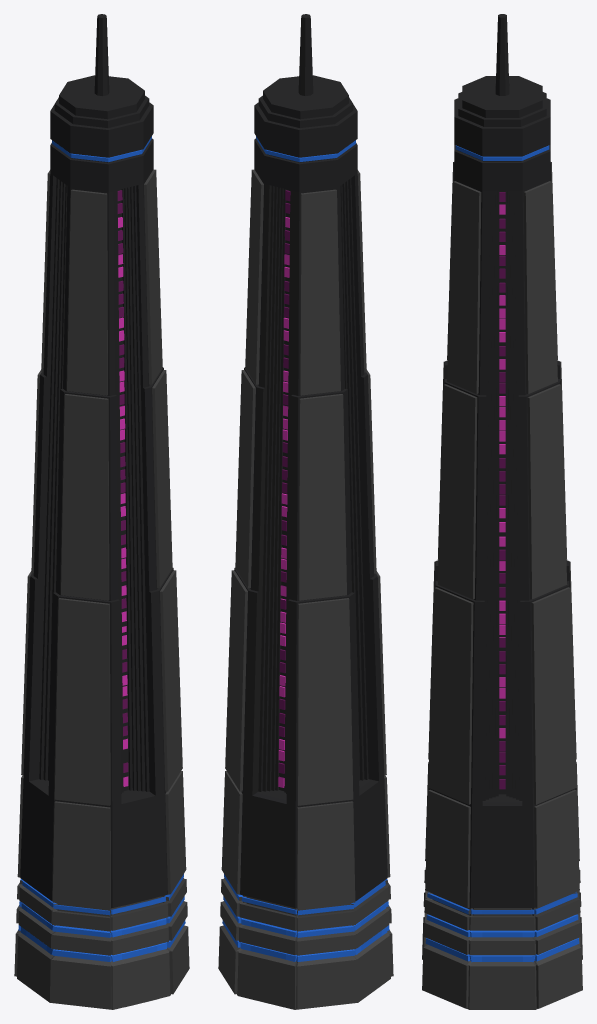
The model's file is Building5_New.fbx.
3 renders of one model, left to right at view 1: azimuth 30°, elevation 25°; view 2: azimuth 150°, elevation 25°; view 3: azimuth 270°, elevation 25°, orthographic.
Parts seen in each view (by area): view 1: Edificio1, VentanasEdificio1; view 2: Edificio1, VentanasEdificio1; view 3: Edificio1, VentanasEdificio1.
Part boxes in pixels (x1,y1,x2,y2): Edificio1: [14, 14, 189, 1009]; VentanasEdificio1: [117, 190, 128, 786]; Edificio1: [218, 14, 393, 1009]; VentanasEdificio1: [278, 190, 290, 787]; Edificio1: [422, 14, 582, 1009]; VentanasEdificio1: [499, 192, 505, 789].
Size of the model in its own units: 6028 by 39709 by 6028.
